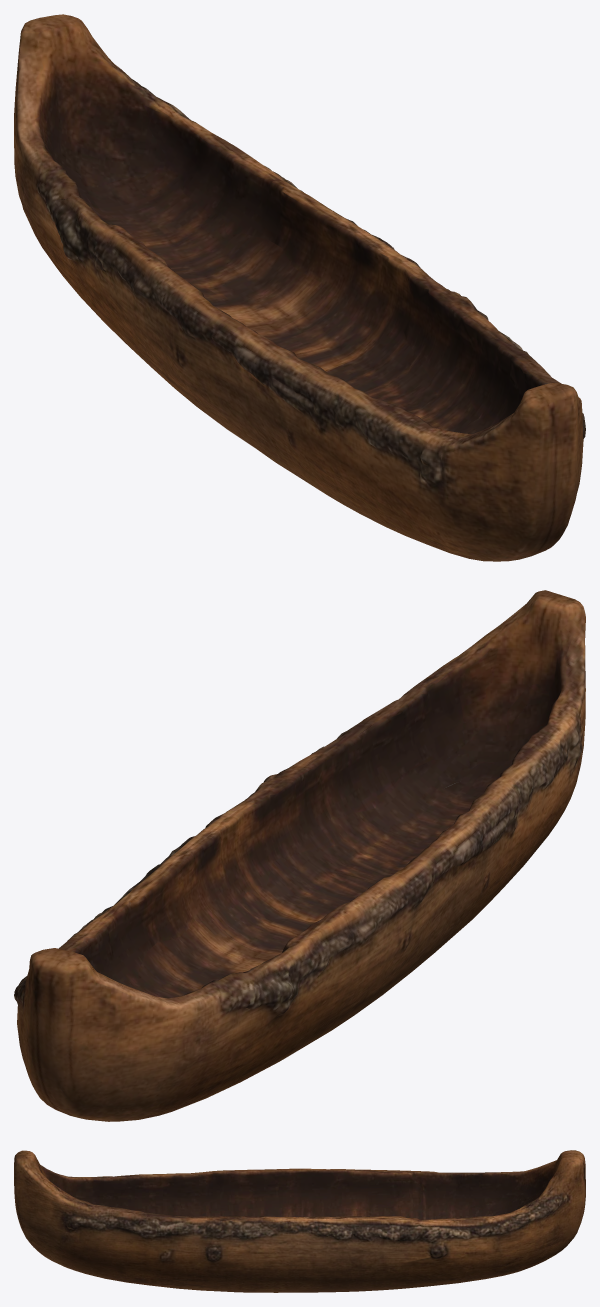
The picture shows the model from 3 angles, top to bottom: view 1: azimuth 30°, elevation 25°; view 2: azimuth 150°, elevation 25°; view 3: azimuth 270°, elevation 25°; orthographic projection. The views are drawn at different scales.
Parts seen in each view (by area): view 1: dugout-canoe; view 2: dugout-canoe; view 3: dugout-canoe.
Boxes of the visible parts, left/top/right/bottom form: dugout-canoe: left=14, top=14, right=585, bottom=561; dugout-canoe: left=14, top=590, right=585, bottom=1121; dugout-canoe: left=14, top=1150, right=585, bottom=1292.
Size of the model in its own units: 0.9528 by 0.9483 by 3.8.
Materials: 1 (1 with a texture image).
